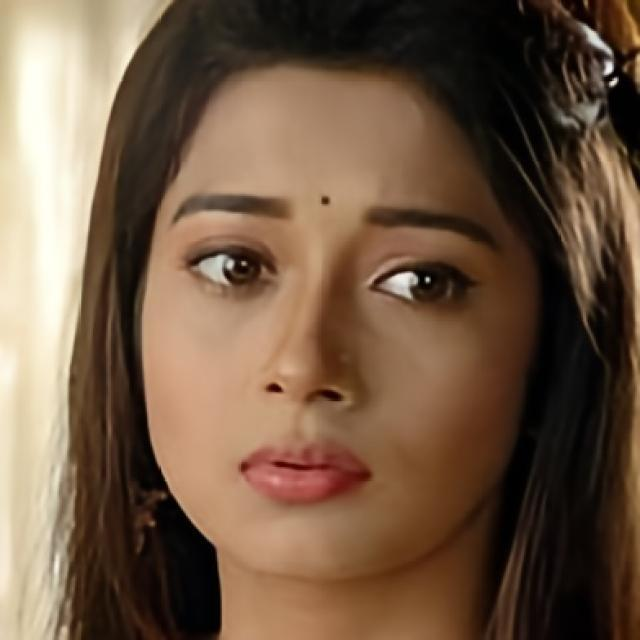sad: (138, 56, 542, 581)
